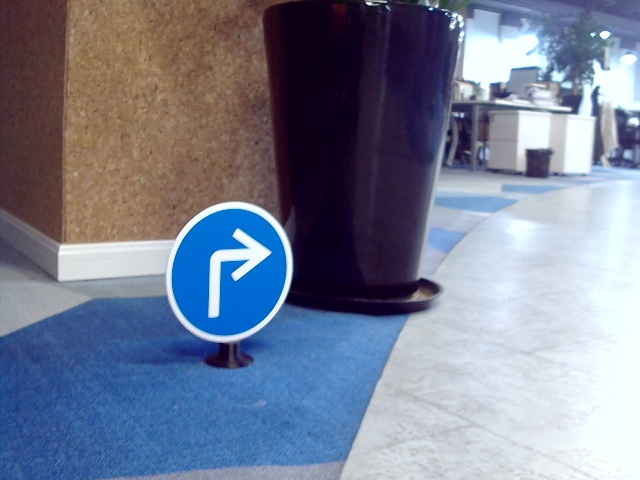turn_right: (201, 227, 267, 318)
